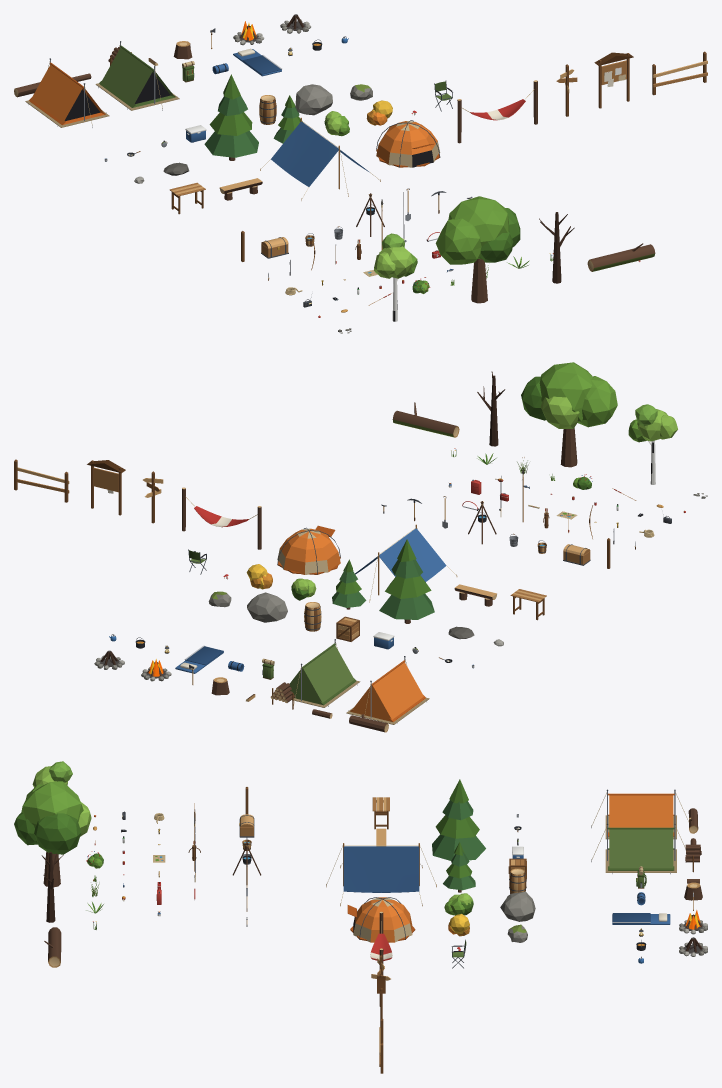
Rendered from _AllProps.glb.
3 views of the same model, one above another, from view 1: azimuth 30°, elevation 25°; view 2: azimuth 150°, elevation 25°; view 3: azimuth 270°, elevation 25° (orthographic).
Parts seen in each view (by area): view 1: SM_Oak_Tree, SM_Tent_Green, SM_Tent_Orange, SM_Tarp_Shelter, SM_Pine_Tree_Tall, SM_Tent_Dome, SM_Birch_Tree, SM_Notice_Board, SM_Hammock, SM_Fallen_Log_Mossy, SM_Rock_Large, SM_SleepingBag_Open (+5 smaller); view 2: SM_Oak_Tree, SM_Tent_Orange, SM_Tent_Green, SM_Pine_Tree_Tall, SM_Tent_Dome, SM_Tarp_Shelter, SM_Birch_Tree, SM_Notice_Board, SM_Rock_Large, SM_Pine_Tree_Small, SM_Fallen_Log_Mossy, SM_Hammock (+3 smaller); view 3: SM_Oak_Tree, SM_Tarp_Shelter, SM_Tent_Green, SM_Tent_Orange, SM_Pine_Tree_Tall, SM_Tent_Dome, SM_Pine_Tree_Small, SM_Rock_Large, SM_SleepingBag_Open, SM_Birch_Tree, SM_Hammock, SM_Dead_Tree (+2 smaller).
Boxes of the visible parts, x1=… form: SM_Oak_Tree: x1=435, y1=196, x2=520, y2=303; SM_Tent_Green: x1=95, y1=41, x2=179, y2=110; SM_Tent_Orange: x1=25, y1=58, x2=109, y2=127; SM_Tarp_Shelter: x1=260, y1=117, x2=380, y2=200; SM_Pine_Tree_Tall: x1=204, y1=74, x2=258, y2=160; SM_Tent_Dome: x1=376, y1=120, x2=440, y2=167; SM_Birch_Tree: x1=374, y1=233, x2=417, y2=321; SM_Notice_Board: x1=594, y1=52, x2=633, y2=108; SM_Hammock: x1=457, y1=80, x2=537, y2=143; SM_Fallen_Log_Mossy: x1=587, y1=243, x2=655, y2=271; SM_Rock_Large: x1=295, y1=84, x2=332, y2=115; SM_SleepingBag_Open: x1=233, y1=48, x2=281, y2=76; SM_Oak_Tree: x1=521, y1=362, x2=617, y2=467; SM_Tent_Orange: x1=346, y1=656, x2=429, y2=724; SM_Tent_Green: x1=289, y1=639, x2=360, y2=707; SM_Pine_Tree_Tall: x1=379, y1=539, x2=434, y2=623; SM_Tent_Dome: x1=277, y1=525, x2=340, y2=574; SM_Tarp_Shelter: x1=355, y1=524, x2=457, y2=602; SM_Birch_Tree: x1=628, y1=404, x2=677, y2=484; SM_Notice_Board: x1=87, y1=460, x2=125, y2=515; SM_Rock_Large: x1=247, y1=592, x2=287, y2=622; SM_Pine_Tree_Small: x1=332, y1=559, x2=366, y2=609; SM_Fallen_Log_Mossy: x1=392, y1=402, x2=459, y2=437; SM_Hammock: x1=182, y1=487, x2=261, y2=549; SM_Oak_Tree: x1=14, y1=781, x2=91, y2=887; SM_Tarp_Shelter: x1=326, y1=843, x2=436, y2=906; SM_Tent_Green: x1=591, y1=823, x2=685, y2=874; SM_Tent_Orange: x1=591, y1=789, x2=688, y2=839; SM_Pine_Tree_Tall: x1=432, y1=779, x2=485, y2=860; SM_Tent_Dome: x1=347, y1=897, x2=415, y2=942; SM_Pine_Tree_Small: x1=443, y1=842, x2=475, y2=892; SM_Rock_Large: x1=500, y1=891, x2=535, y2=921; SM_SleepingBag_Open: x1=612, y1=913, x2=670, y2=924; SM_Birch_Tree: x1=32, y1=761, x2=72, y2=787; SM_Hammock: x1=370, y1=911, x2=392, y2=975; SM_Dead_Tree: x1=41, y1=852, x2=63, y2=922.
Size of the model in its own units: 20.97 by 3.83 by 23.87.
2 materials, 2 textured.
